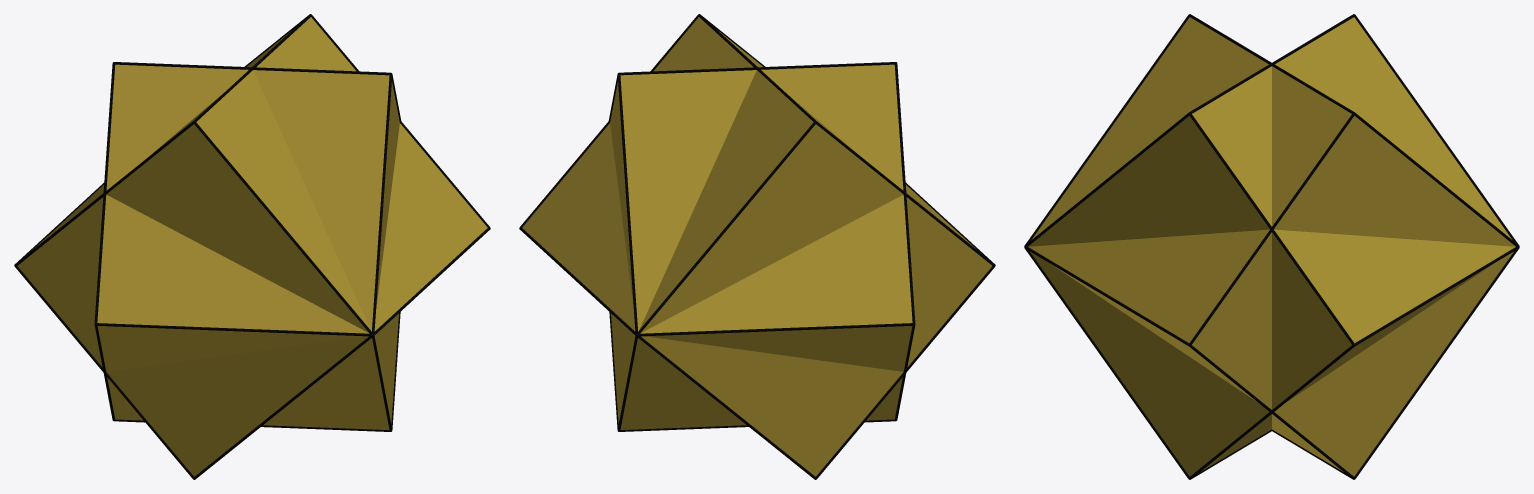
File: quiz_116.dae
3 views of the same model, side by side, from view 1: azimuth 30°, elevation 25°; view 2: azimuth 150°, elevation 25°; view 3: azimuth 270°, elevation 25° (orthographic). The views are drawn at different scales.
Parts seen in each view (by area): view 1: visgeom_0, geometry_edges0_0_quiz_116.off; view 2: visgeom_0, geometry_edges0_0_quiz_116.off; view 3: visgeom_0, geometry_edges0_0_quiz_116.off.
Boxes of the visible parts, x1,y1,x2,y2 form: visgeom_0: (17,17,487,476); geometry_edges0_0_quiz_116.off: (14,14,490,479); visgeom_0: (522,17,992,476); geometry_edges0_0_quiz_116.off: (519,14,995,479); visgeom_0: (1028,17,1515,476); geometry_edges0_0_quiz_116.off: (1024,14,1519,479).
Bounding box in the file's own units: 1.64 × 1.74 × 1.42.
